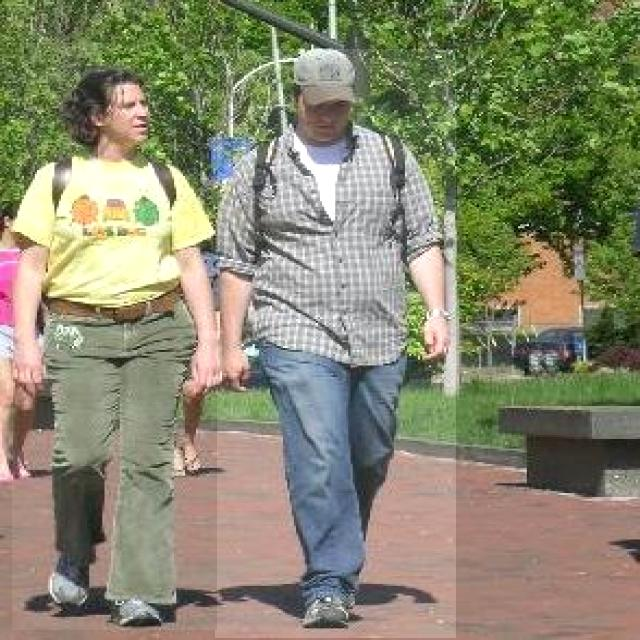with scooter: (215, 49, 456, 638), (12, 64, 217, 630)
